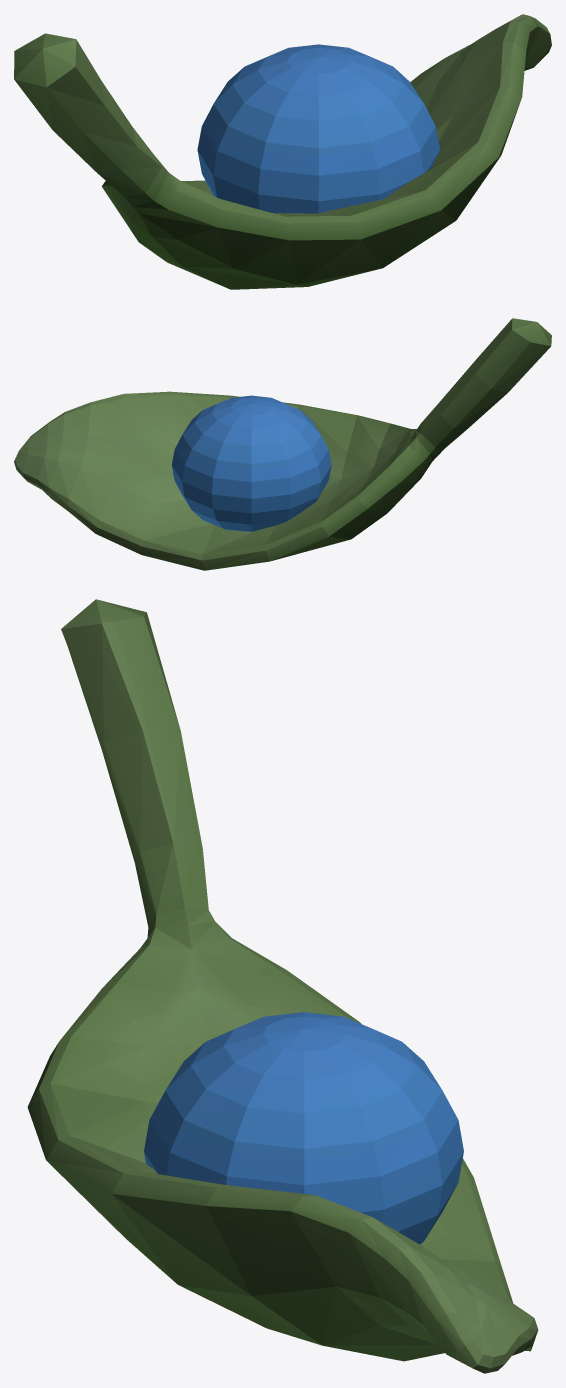
File: CharSkyKid_Horn_AP19Dew.glb
3 views of the same model, one above another, from view 1: azimuth 30°, elevation 25°; view 2: azimuth 150°, elevation 25°; view 3: azimuth 270°, elevation 25° (orthographic). The views are drawn at different scales.
Parts seen in each view (by area): view 1: CharSkyKid_Horn_AP19Dew; view 2: CharSkyKid_Horn_AP19Dew; view 3: CharSkyKid_Horn_AP19Dew.
Boxes of the visible parts, x1,y1,x2,y2 form: CharSkyKid_Horn_AP19Dew: [14, 14, 551, 289]; CharSkyKid_Horn_AP19Dew: [14, 318, 551, 570]; CharSkyKid_Horn_AP19Dew: [27, 599, 538, 1373].
Size of the model in its own units: 2.17 by 1.13 by 1.08.
Materials: 1 (1 with a texture image).
